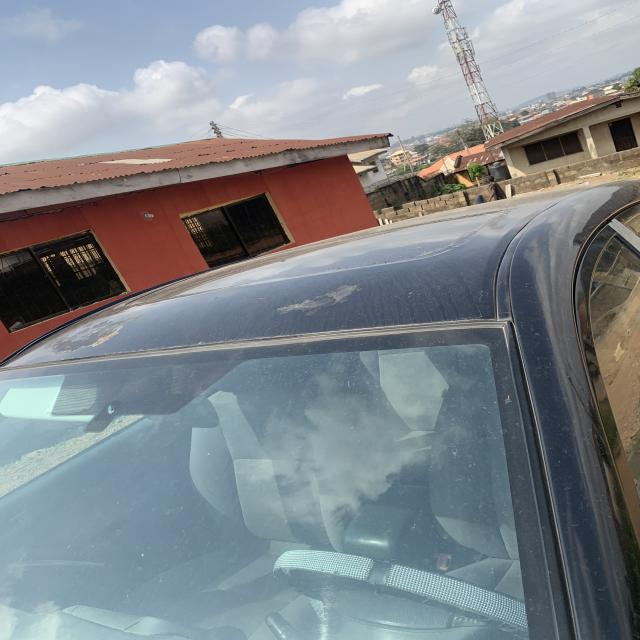paint-chip: (36, 305, 158, 357), (264, 276, 373, 324)
